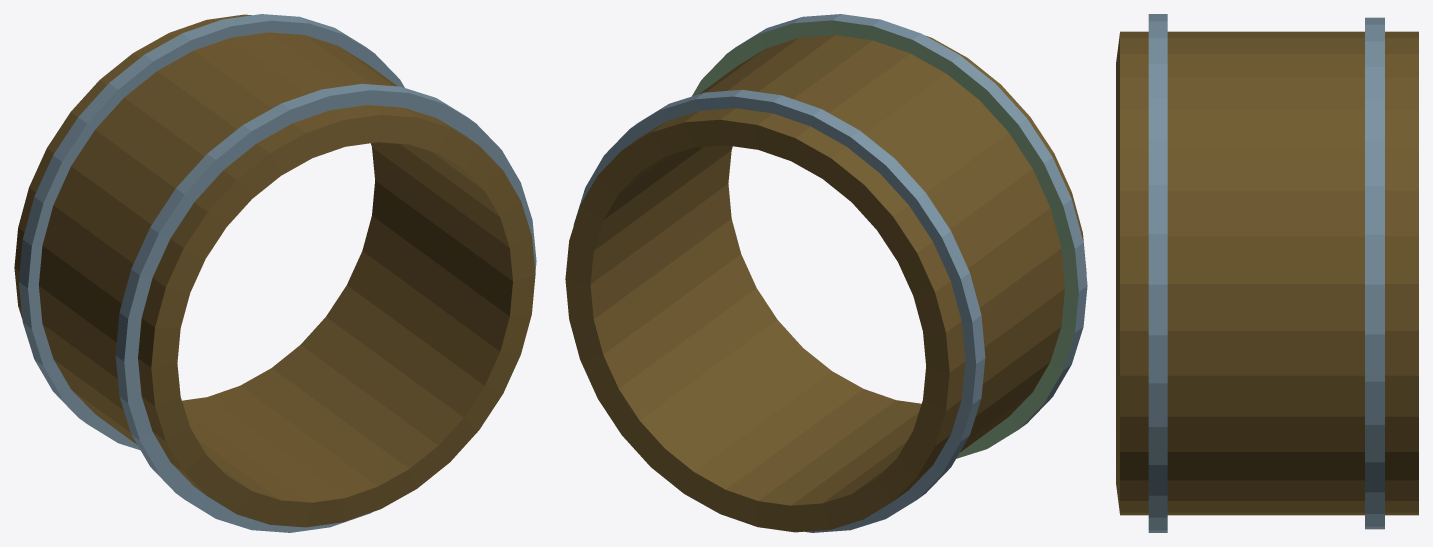
Rendered from anillo de cazador .fbx.
3 views of the same model, side by side, from view 1: azimuth 30°, elevation 25°; view 2: azimuth 150°, elevation 25°; view 3: azimuth 270°, elevation 25° (orthographic). The views are drawn at different scales.
Parts seen in each view (by area): view 1: Circle.001; view 2: Circle.001; view 3: Circle.001.
Boxes of the visible parts, x1=… form: Circle.001: x1=14, y1=14, x2=536, y2=532; Circle.001: x1=565, y1=14, x2=1087, y2=532; Circle.001: x1=1116, y1=14, x2=1418, y2=532.
Size of the model in its own units: 7.09 by 7.09 by 4.13.
